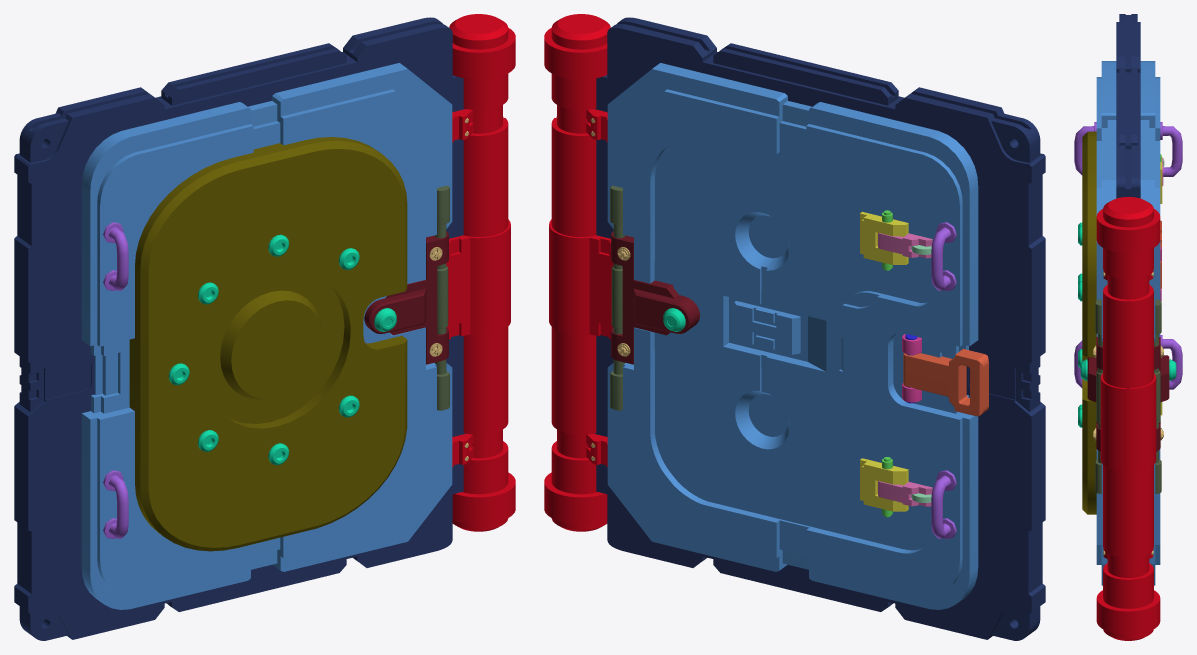
The model's file is Door.fbx.
The picture shows the model from 3 angles, left to right: view 1: azimuth 30°, elevation 25°; view 2: azimuth 150°, elevation 25°; view 3: azimuth 270°, elevation 25°; orthographic projection. The views are drawn at different scales.
Parts seen in each view (by area): view 1: DOOR_low.001, DOOR_low; view 2: DOOR_low.001, DOOR_low; view 3: DOOR_low, DOOR_low.001.
Boxes of the visible parts, x1=… form: DOOR_low.001: x1=81, y1=63, x2=452, y2=609; DOOR_low: x1=14, y1=14, x2=515, y2=640; DOOR_low.001: x1=607, y1=63, x2=988, y2=609; DOOR_low: x1=544, y1=14, x2=1045, y2=640; DOOR_low: x1=1096, y1=14, x2=1160, y2=640; DOOR_low.001: x1=1074, y1=61, x2=1182, y2=585.
Size of the model in its own units: 663 by 675 by 148.
